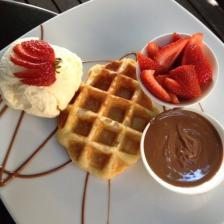ice cream: (2, 27, 82, 122)
waffles: (60, 52, 156, 177)
